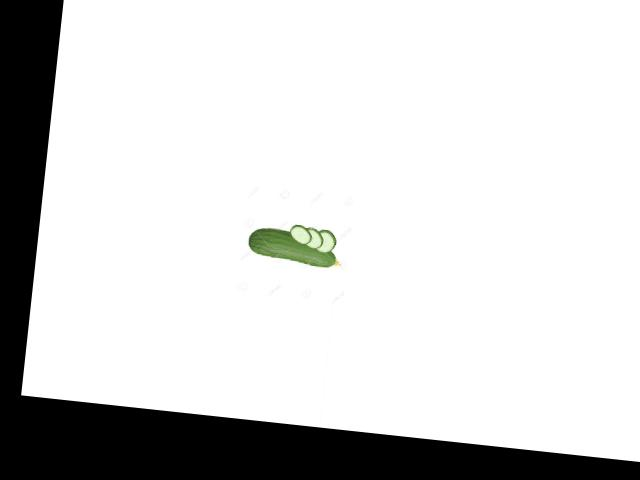cucumber: (245, 225, 343, 268)
